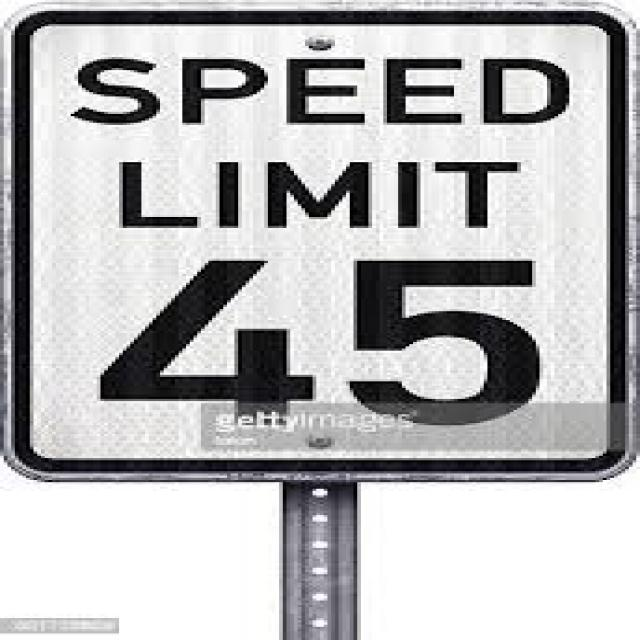speedLimit45: (4, 11, 632, 476)
